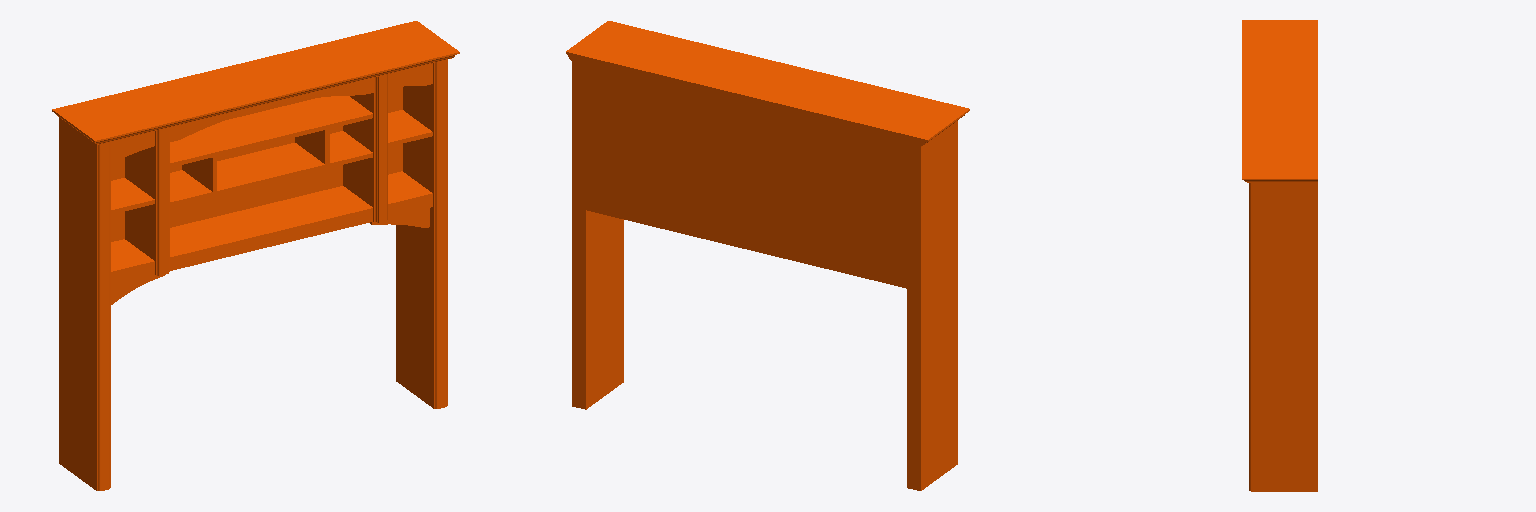
URDF robot description (Headboard_8eccfa5946d9b25af68a8e4ae5e6c1a0):
<?xml version="1.0" ?>
<robot name="Headboard_8eccfa5946d9b25af68a8e4ae5e6c1a0">
   <material name="obj_color">
      <color rgba="1.0 0.423529411765 0.0392156862745 1.0"/>
   </material>
   <link name="top">
      <inertial>
         <origin rpy="0.006608355129878197 0.007310876555166813 0.01336193898233533" xyz="0.0004145303106041452 0.00320867176649297 -0.04251197989783134"/>
         <mass value="1.830365556457158"/>
         <inertia ixx="0.006608355129890661" ixy="1.109315017773719e-09" ixz="2.94820200533448e-09" iyy="0.01336124536952975" iyz="6.478127265623921e-05" izz="0.007311570167959928"/>
      </inertial>
      <visual>
         <origin rpy="0 0 0" xyz="0 0 0"/>
         <geometry>
            <mesh filename="top_watertight_tiny.stl" scale="1 1 1"/>
         </geometry>
         <material name="obj_color"/>
      </visual>
      <collision>
         <origin rpy="0 0 0" xyz="0 0 0"/>
         <geometry>
            <mesh filename="top_watertight_tiny.obj" scale="1 1 1"/>
         </geometry>
      </collision>
   </link>
   <link name="bottom">
      <inertial>
         <origin rpy="1.633333333199431e-08 1.633333333199431e-08 1.633333333362855e-08" xyz="0.3464080000000008 0.3464080000000008 0.3464080000000008"/>
         <mass value="0.0009800000000000017"/>
         <inertia ixx="1.633333333253906e-08" ixy="5.447480642029219e-19" ixz="5.447480642029219e-19" iyy="1.633333333253906e-08" iyz="5.447480642029219e-19" izz="1.633333333253906e-08"/>
      </inertial>
      <visual>
         <origin rpy="0 0 0" xyz="0 0 0"/>
         <geometry>
            <mesh filename="bottom_watertight_tiny.stl" scale="1 1 1"/>
         </geometry>
         <material name="obj_color"/>
      </visual>
   </link>
   <joint name="rotation" type="revolute">
      <origin xyz="0 0 0"/>
      <axis xyz="0 0 -1"/>
      <parent link="bottom"/>
      <child link="top"/>
      <dynamics damping="1.0" friction="1.0"/>
      <limit effort="0.1" velocity="0.1" lower="0" upper="0.001"/>
   </joint>
</robot>

--- What the picture shows (computed from the rendered views, not written in the file) ---
The picture shows the robot from 3 angles, left to right: view 1: azimuth 30°, elevation 25°; view 2: azimuth 150°, elevation 25°; view 3: azimuth 270°, elevation 25°; orthographic projection.
Model Headboard_8eccfa5946d9b25af68a8e4ae5e6c1a0 with 2 links and 1 joints (1 revolute), rooted at bottom, posed every joint at zero.
Visible links, largest first — view 1: top; view 2: top; view 3: top.
Boxes of the visible links, <box> form: top: <box>52,21,459,490</box>; top: <box>566,21,969,490</box>; top: <box>1242,20,1317,491</box>.
Bounding box of the posed robot: 0.2187 × 0.0447 × 0.2038 m (x, y, z).
1 mesh visuals loaded from 2 distinct referenced files (1 binary STL); not drawn: 1 (reference not matched to a file when rendering).
